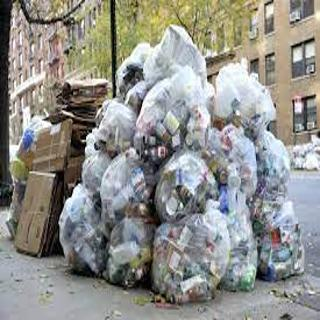Garbage: (131, 72, 216, 163), (151, 204, 229, 303), (53, 181, 109, 275), (94, 148, 160, 227), (256, 193, 313, 280), (102, 198, 157, 287), (156, 153, 220, 225), (143, 24, 212, 90), (213, 63, 279, 131), (251, 131, 294, 200), (90, 96, 141, 149)
